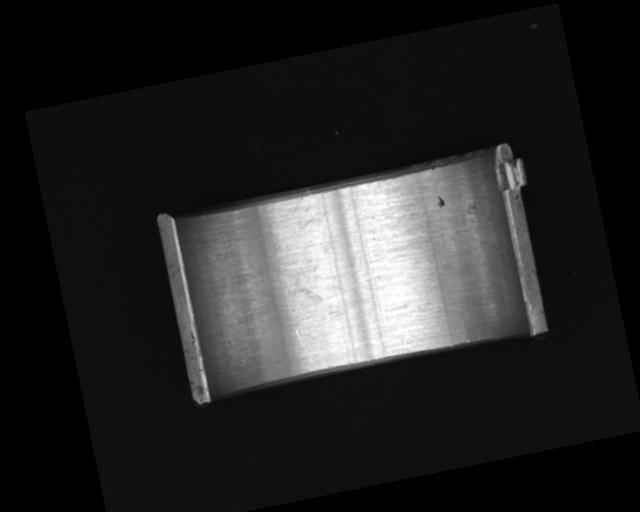blot: (270, 255, 325, 312)
bruise: (434, 193, 447, 209)
nick: (294, 327, 316, 369)
